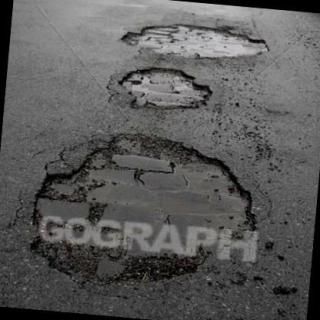pothole: (30, 134, 258, 283), (122, 24, 269, 58), (119, 68, 213, 109)
